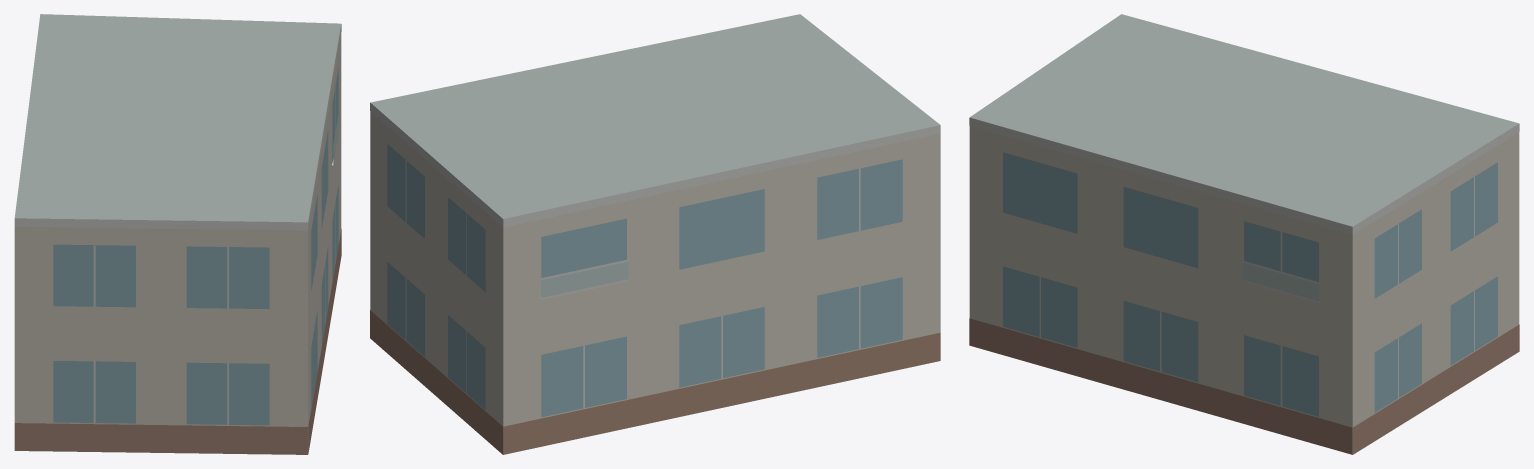
The model's file is survey-upis-32798385.glb.
3 views of the same model, side by side, from view 1: azimuth 30°, elevation 25°; view 2: azimuth 150°, elevation 25°; view 3: azimuth 270°, elevation 25° (orthographic). The views are drawn at different scales.
Parts seen in each view (by area): view 1: survey-upis-32798385.tmp; view 2: survey-upis-32798385.tmp; view 3: survey-upis-32798385.tmp.
Part boxes in pixels (box(x1,y1,x2,y2)): survey-upis-32798385.tmp: box(14, 14, 341, 454); survey-upis-32798385.tmp: box(370, 14, 940, 454); survey-upis-32798385.tmp: box(969, 14, 1519, 454).
Bounding box in the file's own units: 13.61 × 6.8 × 14.87.
